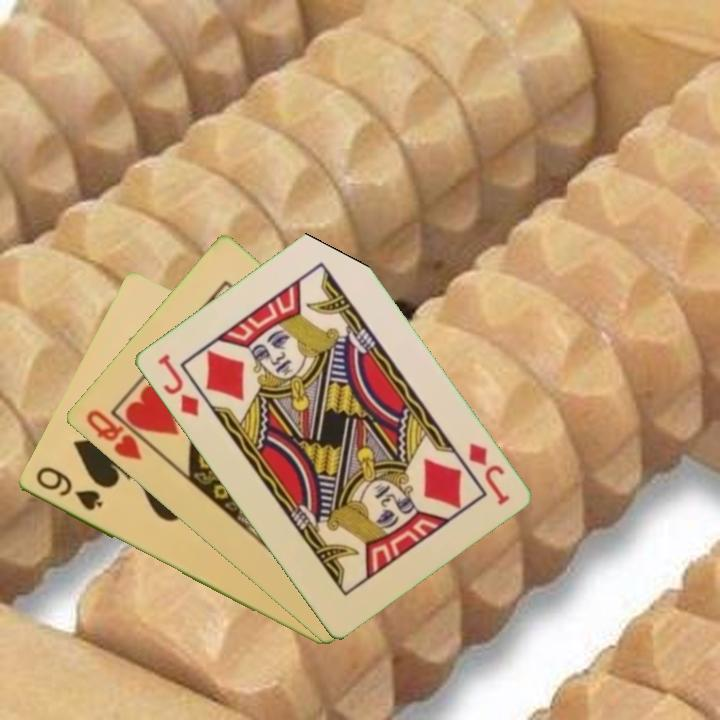9s: (31, 463, 105, 514)
Jd: (153, 350, 202, 420), (464, 439, 512, 508)
Qh: (82, 406, 156, 464)
